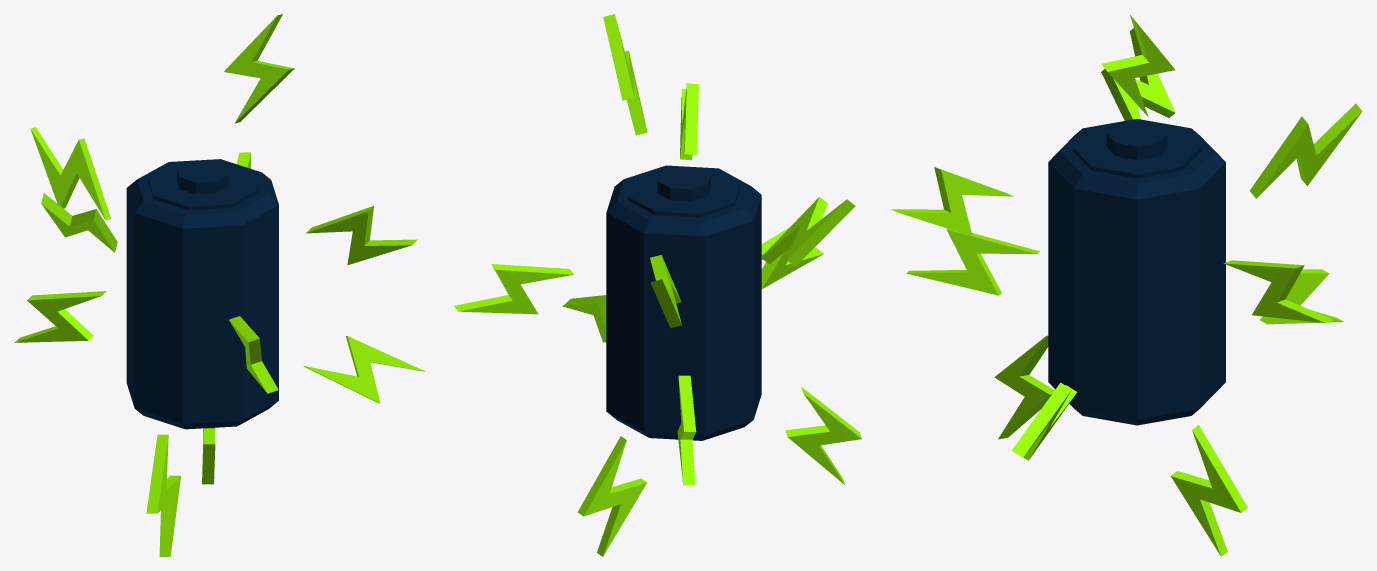
Rendered from Bacteria_BatteryElectricity.FBX.
3 renders of one model, left to right at view 1: azimuth 30°, elevation 25°; view 2: azimuth 150°, elevation 25°; view 3: azimuth 270°, elevation 25°, orthographic. The views are drawn at different scales.
Parts seen in each view (by area): view 1: Cylinder001, Box015, Box012, Box020, Box019, Box017, Box016, Box011, Box018, Box013; view 2: Cylinder001, Box013, Box011, Box014, Box020, Box019, Box012, Box017, Box015, Box018, Box016; view 3: Cylinder001, Box013, Box015, Box018, Box014, Box017, Box020, Box019, Box011, Box016, Box012.
Part boxes in pixels (x1,y1,x2,y2): Cylinder001: [126, 159, 278, 429]; Box015: [30, 127, 110, 219]; Box012: [14, 291, 106, 342]; Box020: [146, 434, 180, 556]; Box019: [224, 14, 294, 123]; Box017: [306, 206, 417, 265]; Box016: [303, 336, 424, 403]; Box011: [41, 193, 117, 252]; Box018: [229, 316, 278, 393]; Box013: [202, 427, 215, 484]; Cylinder001: [606, 165, 761, 440]; Box013: [577, 436, 646, 556]; Box011: [761, 197, 855, 266]; Box014: [454, 264, 573, 314]; Box020: [785, 386, 861, 484]; Box019: [603, 14, 647, 135]; Box012: [677, 375, 696, 485]; Box017: [680, 83, 698, 160]; Box015: [650, 255, 681, 328]; Box018: [761, 228, 823, 288]; Box016: [562, 295, 606, 342]; Cylinder001: [1048, 119, 1225, 425]; Box013: [1171, 425, 1247, 556]; Box015: [1249, 103, 1362, 198]; Box018: [906, 228, 1039, 295]; Box014: [1223, 260, 1333, 322]; Box017: [890, 167, 1013, 236]; Box020: [994, 335, 1054, 439]; Box019: [1101, 15, 1175, 116]; Box011: [1101, 28, 1175, 120]; Box016: [1011, 382, 1077, 460]; Box012: [1260, 269, 1343, 324].
Bounding box in the file's own units: 294 × 319 × 414.
